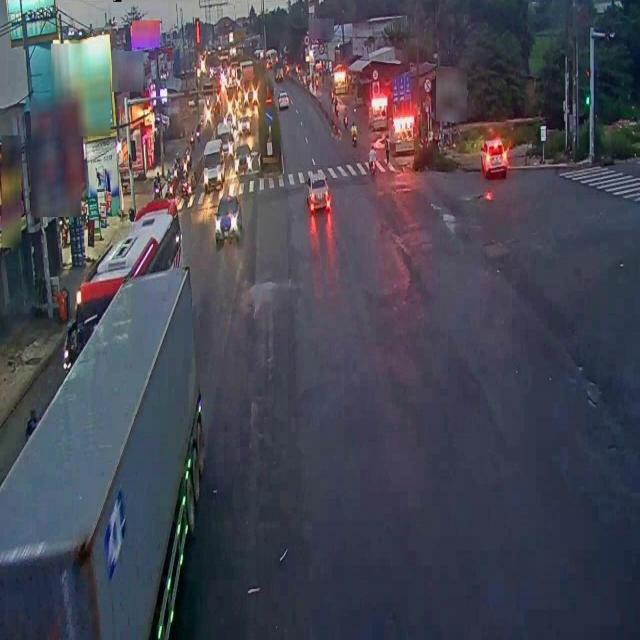car: (305, 167, 333, 220), (217, 194, 240, 240)
truck: (0, 245, 212, 640)
